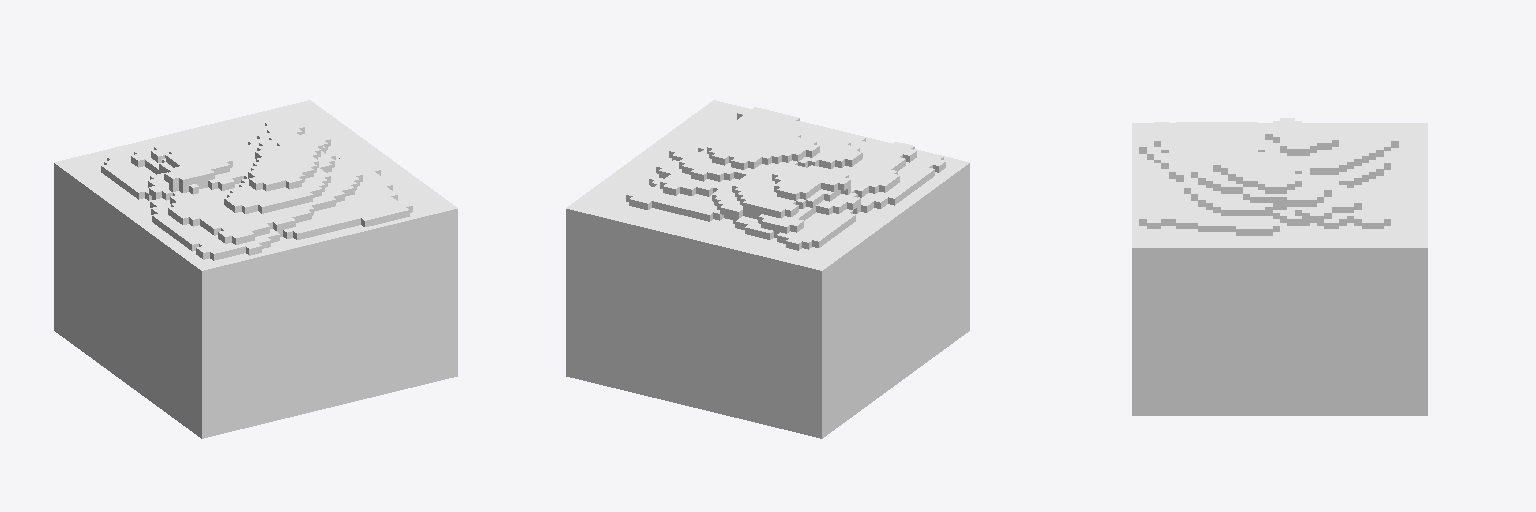
Rendered from tile-fullmountain-3.obj.
3 renders of one model, left to right at view 1: azimuth 30°, elevation 25°; view 2: azimuth 150°, elevation 25°; view 3: azimuth 270°, elevation 25°, orthographic.
Parts seen in each view (by area): view 1: tile-fullmountain-3; view 2: tile-fullmountain-3; view 3: tile-fullmountain-3.
Part boxes in pixels (x1,y1,x2,y2): tile-fullmountain-3: (54, 100, 457, 438); tile-fullmountain-3: (566, 100, 969, 438); tile-fullmountain-3: (1132, 118, 1427, 415).
Bounding box in the file's own units: 40 × 29 × 40.